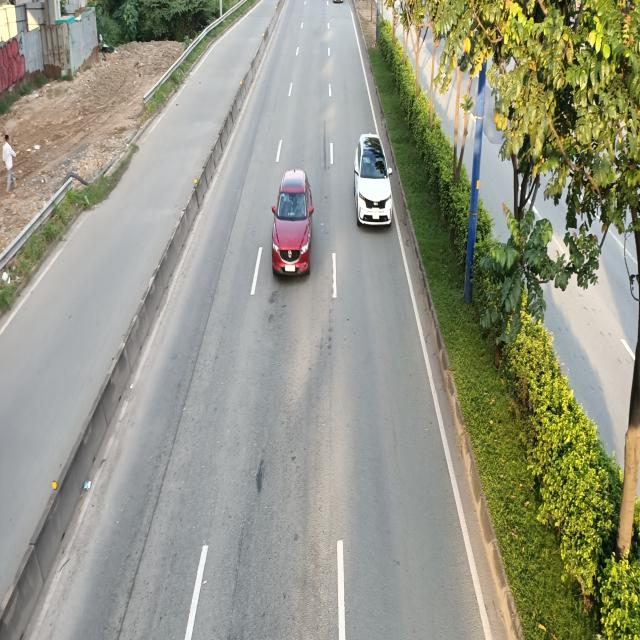car: (271, 170, 314, 278), (352, 136, 392, 232)
